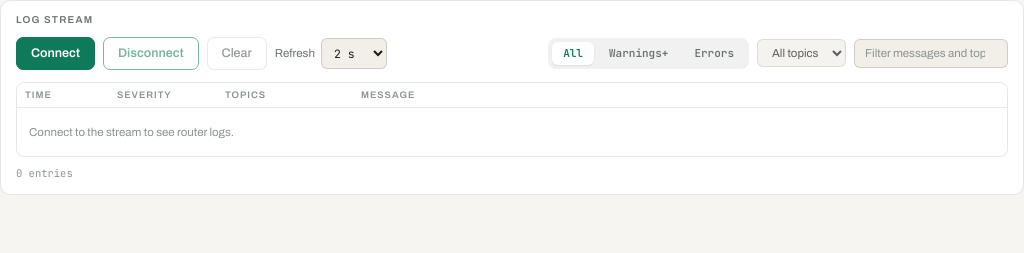
Test: MikrotikLogsPanel › streams entries and highlights error and warning rows
Click the button "Connect" at (55, 53), box [16,37,95,70]
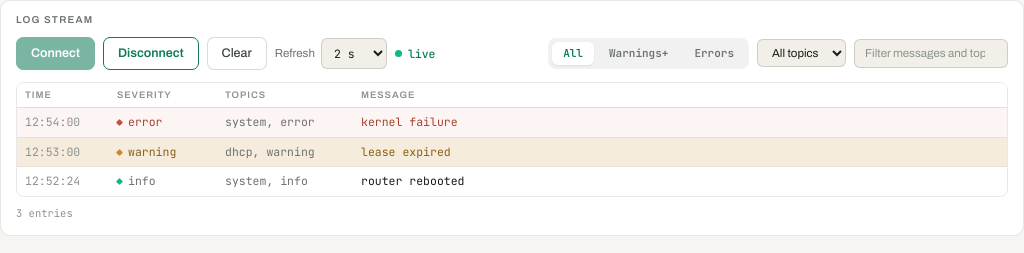
Expected: the number of rows with test id "mikrotik-log-row" is 3, [17,107,1007,137]; [17,137,1007,167]; [17,167,1007,196]
Expected: the row with test id "mikrotik-log-row" shows "kernel failure", [361,114,458,129]
